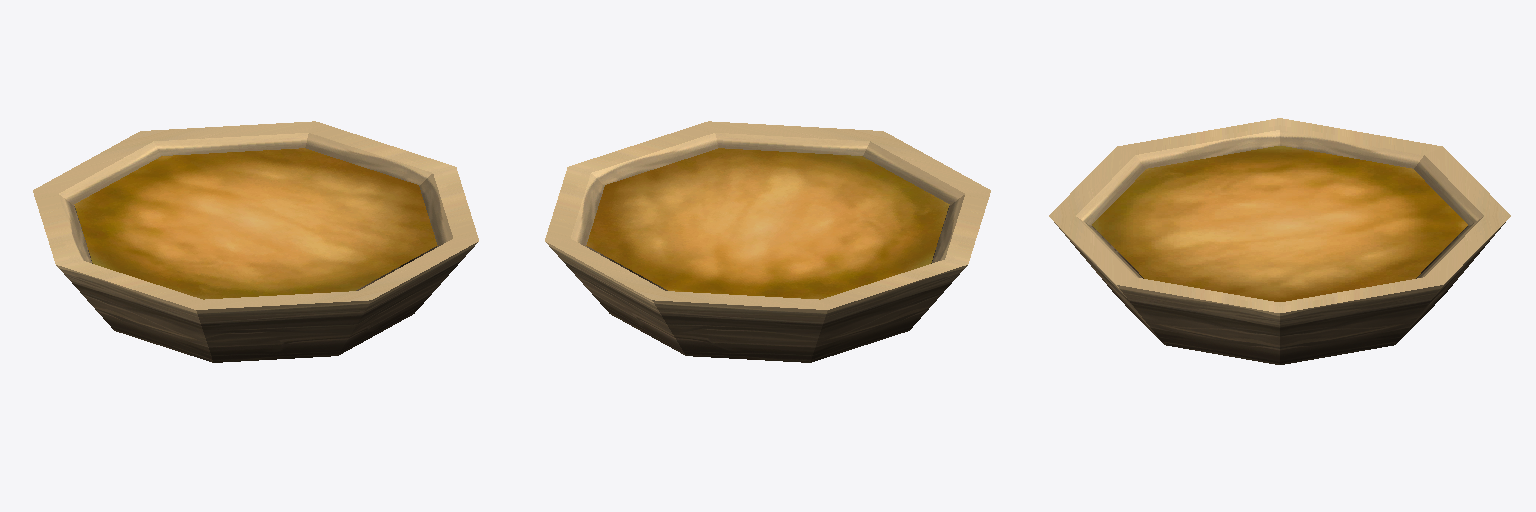
3 renders of one model, left to right at view 1: azimuth 30°, elevation 25°; view 2: azimuth 150°, elevation 25°; view 3: azimuth 270°, elevation 25°, orthographic.
Visible parts, largest first — view 1: bubblingbowl02; view 2: bubblingbowl02; view 3: bubblingbowl02.
Boxes of the visible parts, x1,y1,x2,y2 form: bubblingbowl02: [33, 121, 478, 362]; bubblingbowl02: [545, 121, 990, 362]; bubblingbowl02: [1049, 118, 1510, 364].
Size of the model in its own units: 0.7674 by 0.1474 by 0.7674.
2 materials, 2 textured.